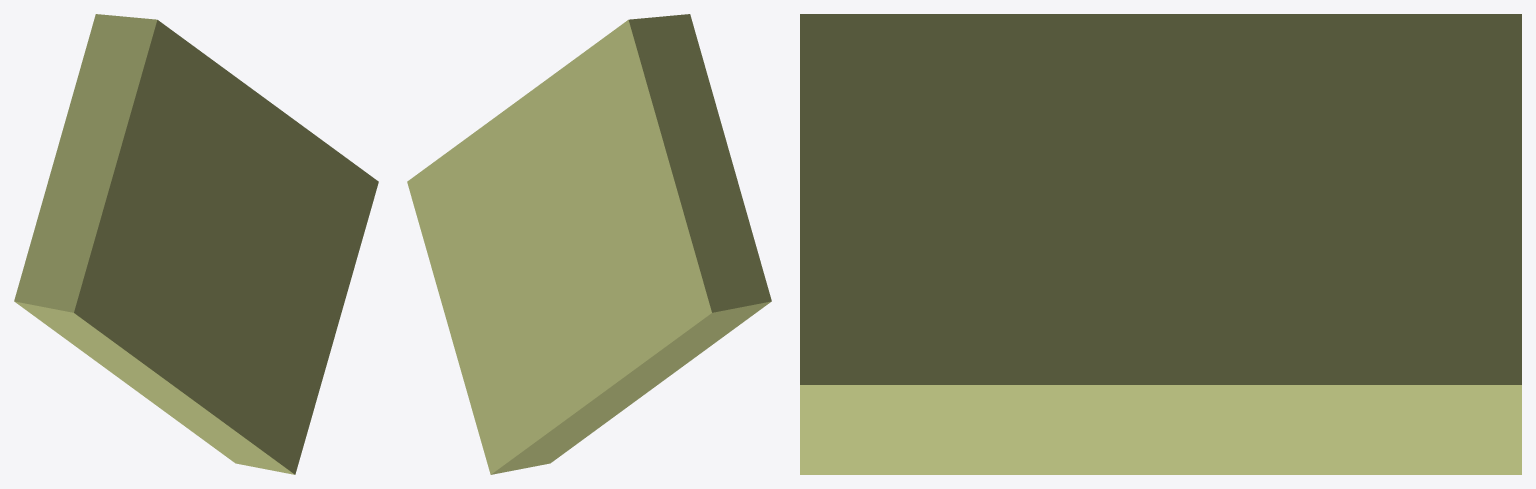
The picture shows the model from 3 angles, left to right: view 1: azimuth 30°, elevation 25°; view 2: azimuth 150°, elevation 25°; view 3: azimuth 270°, elevation 25°; orthographic projection. The views are drawn at different scales.
Visible parts, largest first — view 1: 0_1_2_0_1_1_0_0_0_3_2; view 2: 0_1_2_0_1_1_0_0_0_3_2; view 3: 0_1_2_0_1_1_0_0_0_3_2.
Boxes of the visible parts, x1,y1,x2,y2 form: 0_1_2_0_1_1_0_0_0_3_2: (14, 14, 378, 474); 0_1_2_0_1_1_0_0_0_3_2: (407, 14, 771, 474); 0_1_2_0_1_1_0_0_0_3_2: (800, 14, 1521, 474).
Bounding box in the file's own units: 2.24 × 4.39 × 6.
